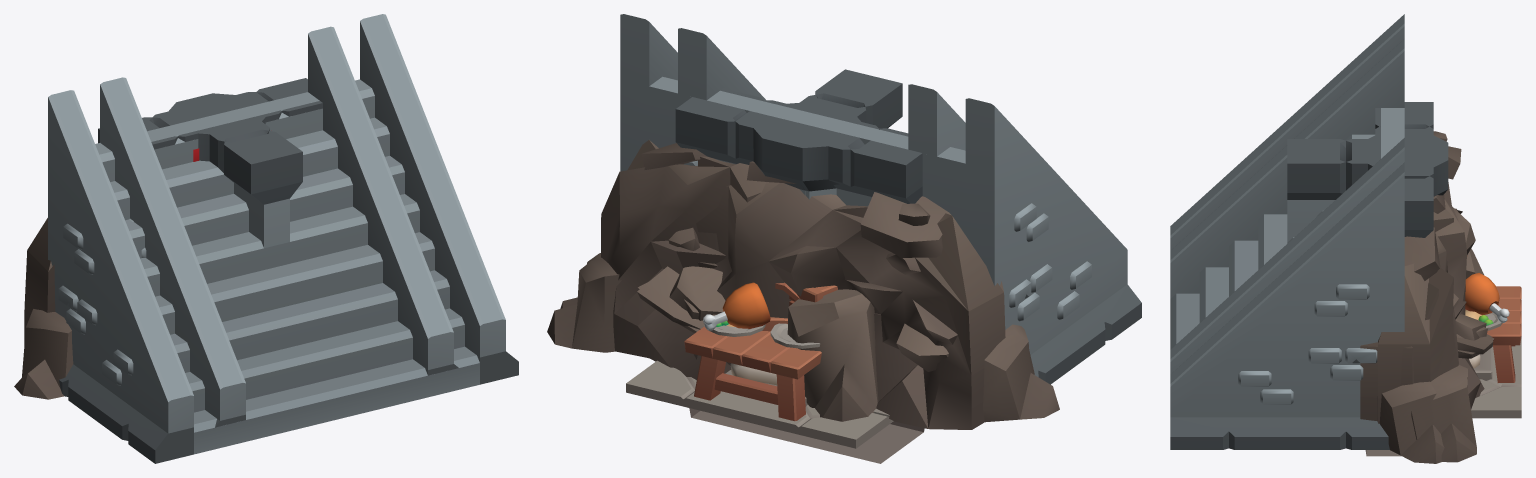
Rendered from dungeon.glb.
The picture shows the model from 3 angles, left to right: view 1: azimuth 30°, elevation 25°; view 2: azimuth 150°, elevation 25°; view 3: azimuth 270°, elevation 25°; orthographic projection. The views are drawn at different scales.
Visible parts, largest first — view 1: stairs_wide, stairs, wall_corner, rubble_large, wall_arched, wall_pillar, pillar; view 2: rubble_large, stairs_wide, rubble_half, table_long_decorated_A, stairs, floor_tile_large, wall_shelves, wall_arched, wall_corner, wall_pillar, floor_tile_grate, wall (+2 smaller); view 3: stairs_wide, stairs, rubble_half, rubble_large, wall_corner, table_long_decorated_A, wall_arched, floor_tile_large, wall, wall_pillar, wall_endcap, bed_floor.
Boxes of the visible parts, <box> form: stairs_wide: <box>48,14,518,463</box>; stairs: <box>100,26,458,427</box>; wall_corner: <box>151,122,302,248</box>; rubble_large: <box>14,218,73,399</box>; wall_arched: <box>98,78,322,149</box>; wall_pillar: <box>155,93,273,161</box>; pillar: <box>175,94,256,133</box>; rubble_large: <box>560,161,1059,429</box>; stairs_wide: <box>620,14,1141,384</box>; rubble_half: <box>547,140,765,379</box>; table_long_decorated_A: <box>684,282,821,421</box>; stairs: <box>678,28,965,156</box>; floor_tile_large: <box>626,360,892,448</box>; wall_shelves: <box>675,109,912,203</box>; wall_arched: <box>676,88,922,203</box>; wall_corner: <box>795,69,907,206</box>; wall_pillar: <box>753,102,897,199</box>; floor_tile_grate: <box>689,408,924,463</box>; wall: <box>703,115,920,164</box>; stairs_wide: <box>1170,14,1404,449</box>; stairs: <box>1170,39,1404,374</box>; rubble_half: <box>1377,209,1493,462</box>; rubble_large: <box>1360,131,1493,463</box>; wall_corner: <box>1287,124,1424,241</box>; table_long_decorated_A: <box>1465,273,1521,382</box>; wall_arched: <box>1375,102,1433,237</box>; floor_tile_large: <box>1471,324,1521,418</box>; wall: <box>1375,160,1433,237</box>; wall_pillar: <box>1360,135,1448,196</box>; wall_endcap: <box>1375,151,1433,178</box>; bed_floor: <box>1469,347,1492,380</box>.
Bounding box in the file's own units: 8.13 × 6.08 × 6.
1 material, 1 textured.
